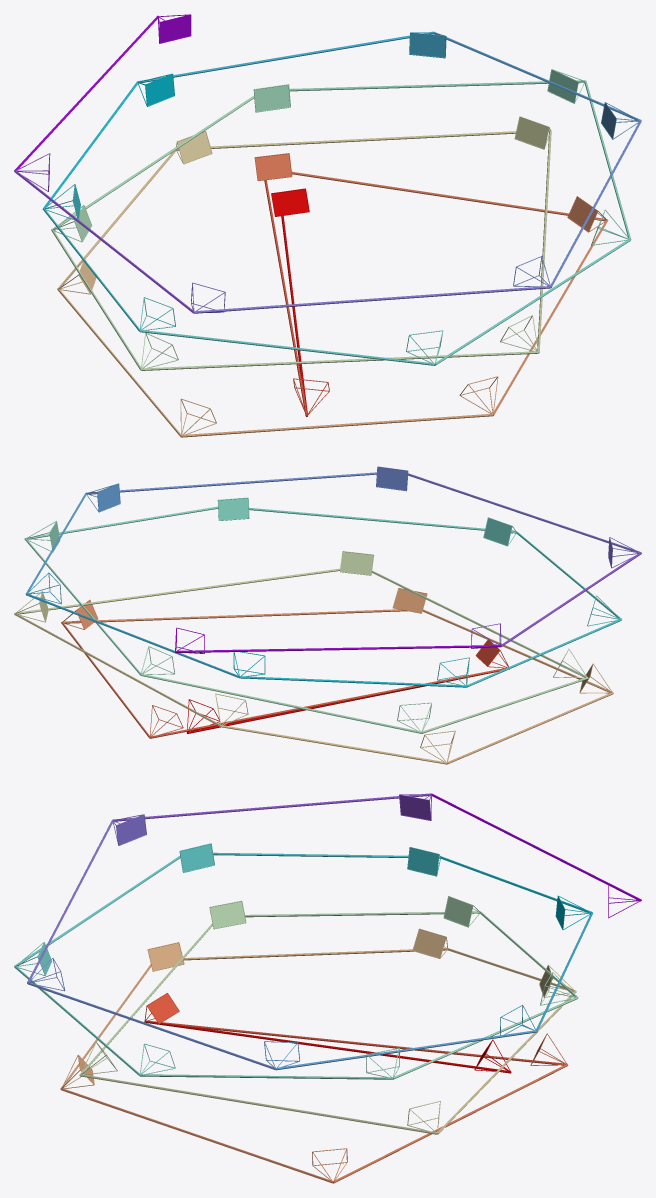
File: vgtt.glb
The picture shows the model from 3 angles, top to bottom: view 1: azimuth 30°, elevation 25°; view 2: azimuth 150°, elevation 25°; view 3: azimuth 270°, elevation 25°; orthographic projection. The views are drawn at different scales.
Visible parts, largest first — view 1: trajectory, frustums; view 2: trajectory, frustums; view 3: trajectory, frustums.
Part boxes in pixels (x1,y1,x2,y2): trajectory: (14, 15, 641, 437); frustums: (16, 14, 639, 435); trajectory: (14, 472, 641, 764); frustums: (16, 466, 639, 762); trajectory: (14, 793, 641, 1183); frustums: (16, 794, 641, 1181).
Size of the model in its own units: 1.51 by 0.5058 by 1.55.
